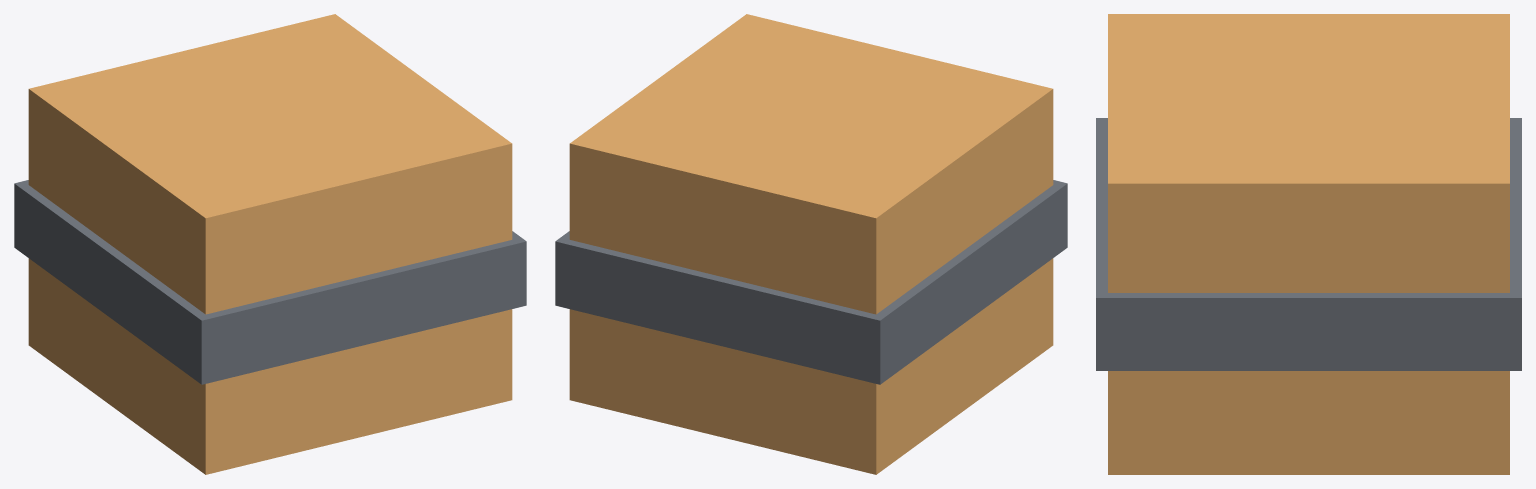
Rendered from crate.gltf.
The picture shows the model from 3 angles, left to right: view 1: azimuth 30°, elevation 25°; view 2: azimuth 150°, elevation 25°; view 3: azimuth 270°, elevation 25°; orthographic projection. The views are drawn at different scales.
Parts seen in each view (by area): view 1: supply_crate; view 2: supply_crate; view 3: supply_crate.
Part boxes in pixels (left/top/right/bottom): supply_crate: left=14, top=14, right=526, bottom=474; supply_crate: left=555, top=14, right=1067, bottom=474; supply_crate: left=1096, top=14, right=1521, bottom=474.
Bounding box in the file's own units: 1.06 × 0.8 × 1.06.
